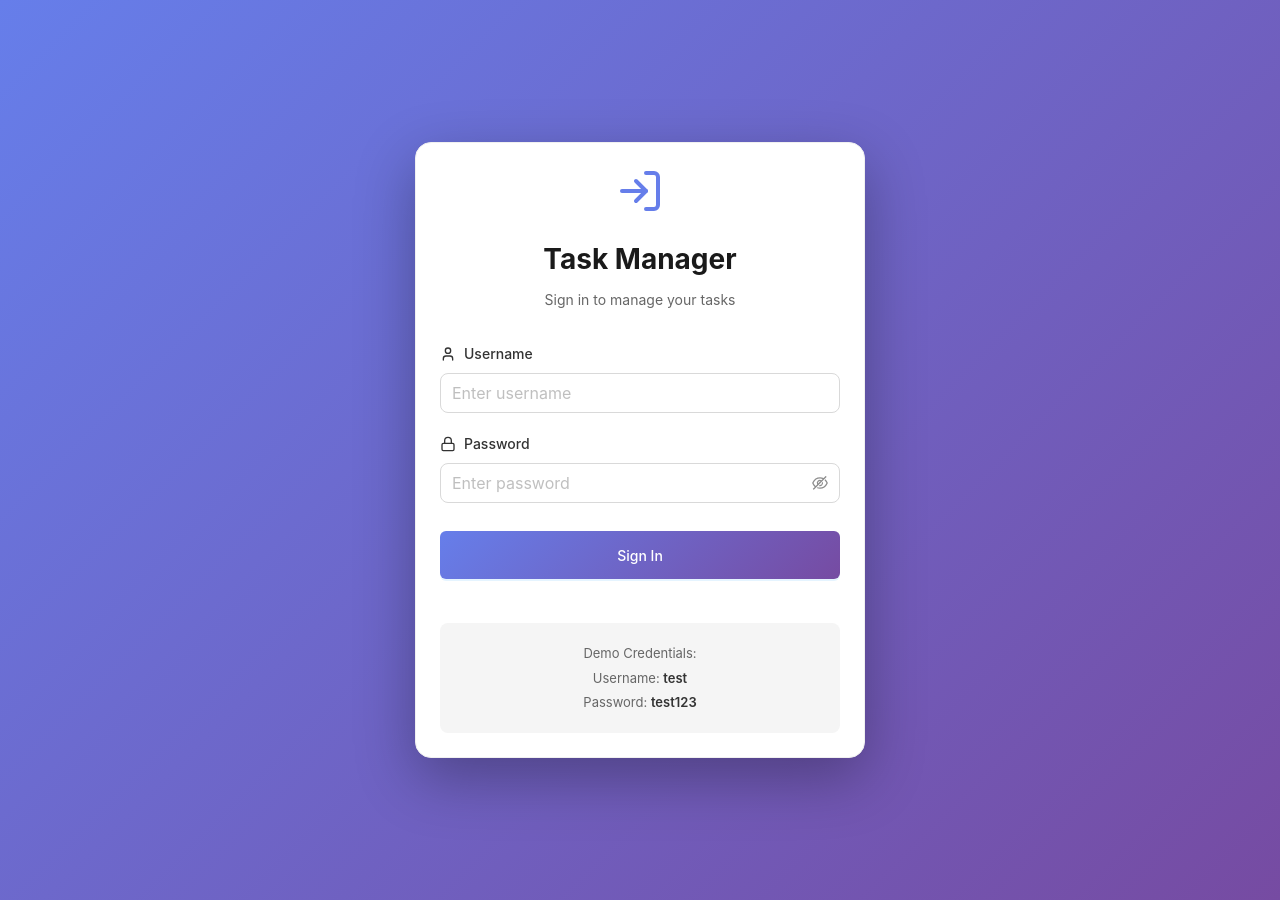
Test: Login › should show validation errors for empty fields
Click the button "Sign In": {"x": 640, "y": 555} top-left (440, 531), bottom-right (840, 579)
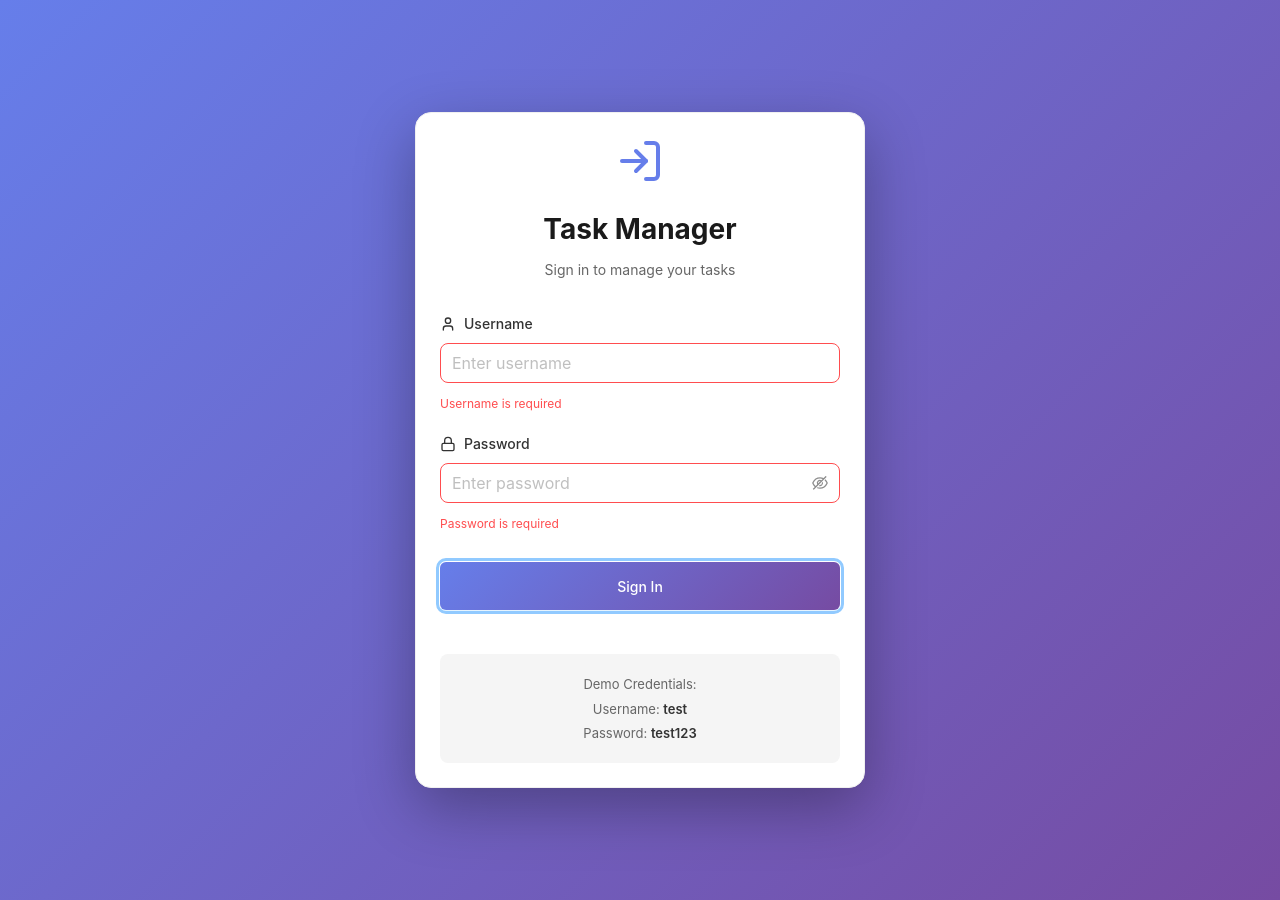
expect the text "Username is required" is shown: met, box top-left (440, 396), bottom-right (562, 410)
expect the text "Password is required" is shown: met, box top-left (440, 516), bottom-right (559, 531)
